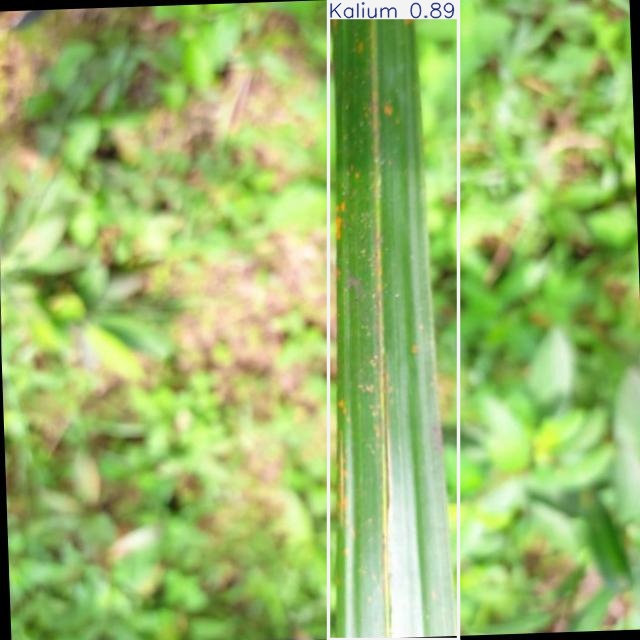Kalium: (328, 1, 459, 640)
